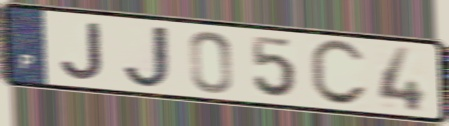0: (187, 29, 235, 96)
4: (375, 44, 432, 115)
5: (250, 35, 299, 99)
C: (307, 37, 371, 109)
J: (121, 23, 174, 90), (59, 21, 107, 83)
